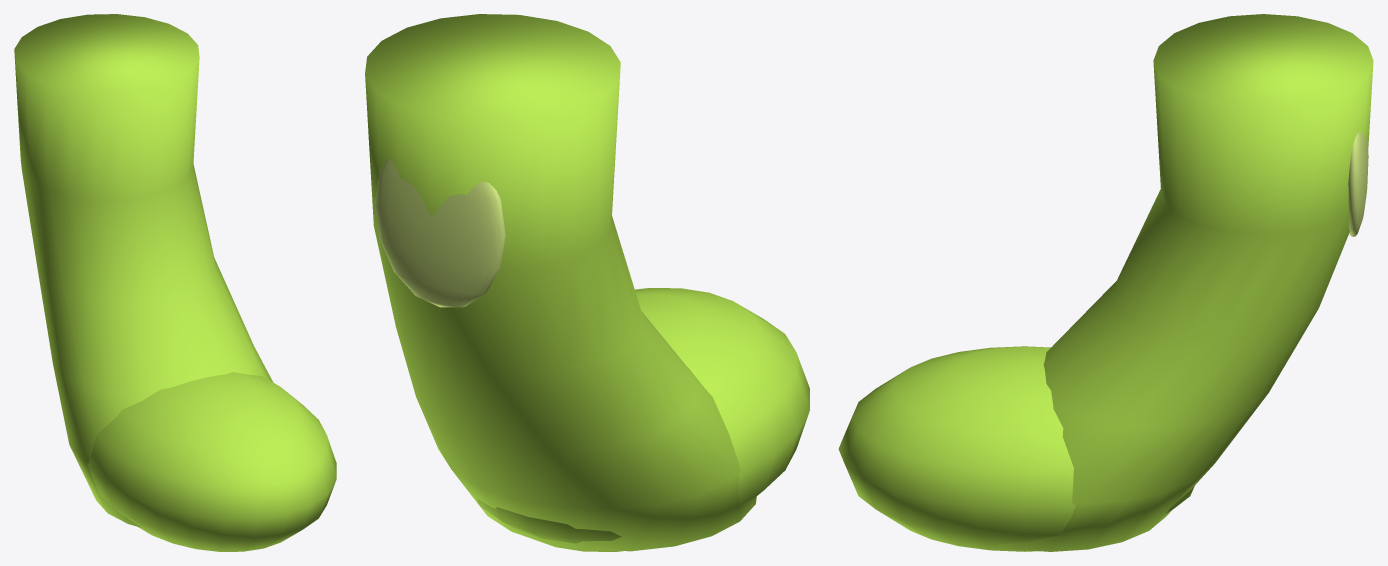
The model's file is snake-neck.glb.
3 renders of one model, left to right at view 1: azimuth 30°, elevation 25°; view 2: azimuth 150°, elevation 25°; view 3: azimuth 270°, elevation 25°, orthographic. The views are drawn at different scales.
Parts seen in each view (by area): view 1: UprightNeck, GroundCollar; view 2: UprightNeck, GroundCollar, NeckBelly; view 3: UprightNeck, GroundCollar, NeckBelly.
Part boxes in pixels (<box>): UprightNeck: <box>14,14,272,527</box>; GroundCollar: <box>87,372,336,551</box>; UprightNeck: <box>365,14,756,551</box>; GroundCollar: <box>477,288,809,551</box>; NeckBelly: <box>375,158,505,307</box>; UprightNeck: <box>996,14,1373,551</box>; GroundCollar: <box>838,346,1194,551</box>; NeckBelly: <box>1348,132,1368,236</box>.
Size of the model in its own units: 0.74 by 1.38 by 1.41.
